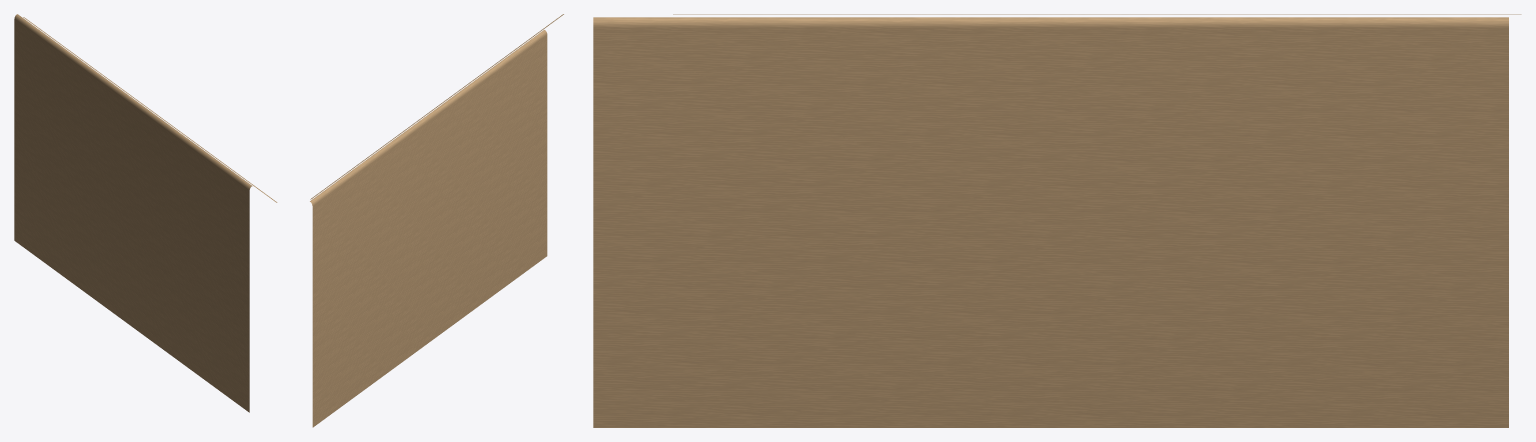
Rendered from Level2_20.glb.
3 renders of one model, left to right at view 1: azimuth 30°, elevation 25°; view 2: azimuth 150°, elevation 25°; view 3: azimuth 270°, elevation 25°, orthographic. The views are drawn at different scales.
Parts seen in each view (by area): view 1: Level2_20; view 2: Level2_20; view 3: Level2_20.
Part boxes in pixels (left/top/right/bottom): Level2_20: left=14, top=14, right=277, bottom=412; Level2_20: left=310, top=14, right=563, bottom=427; Level2_20: left=593, top=14, right=1521, bottom=427.
Bounding box in the file's own units: 3.8 × 105 × 217.
1 material, 1 textured.
